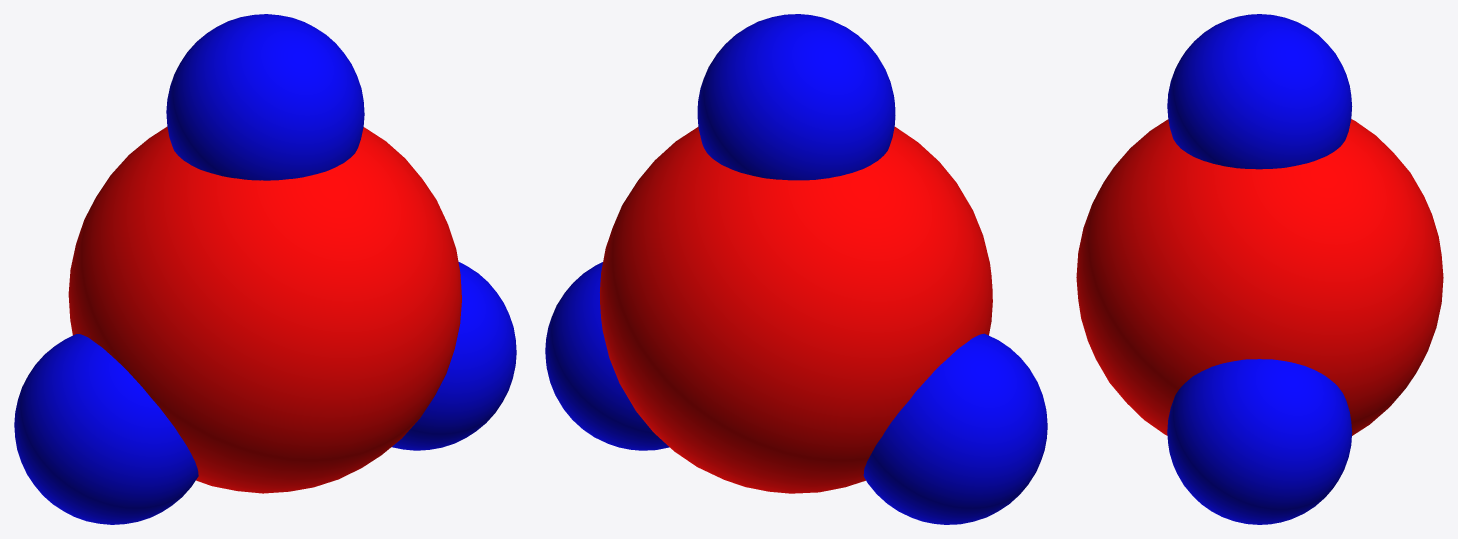
File: trigonal_planar_space.glb
3 views of the same model, side by side, from view 1: azimuth 30°, elevation 25°; view 2: azimuth 150°, elevation 25°; view 3: azimuth 270°, elevation 25° (orthographic). The views are drawn at different scales.
Visible parts, largest first — view 1: trigonal_planar_space; view 2: trigonal_planar_space; view 3: trigonal_planar_space.
Boxes of the visible parts, box(x1,y1,x2,y2) form: trigonal_planar_space: box(14, 14, 516, 524); trigonal_planar_space: box(545, 14, 1047, 524); trigonal_planar_space: box(1076, 14, 1443, 524).
Bounding box in the file's own units: 3.12 × 2.85 × 2.23.
